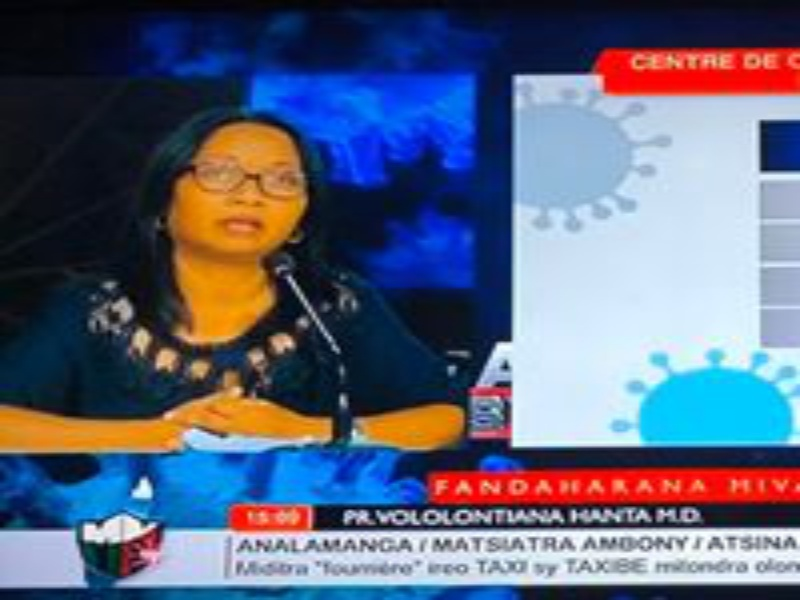TsisyArotava: (148, 109, 327, 279)
